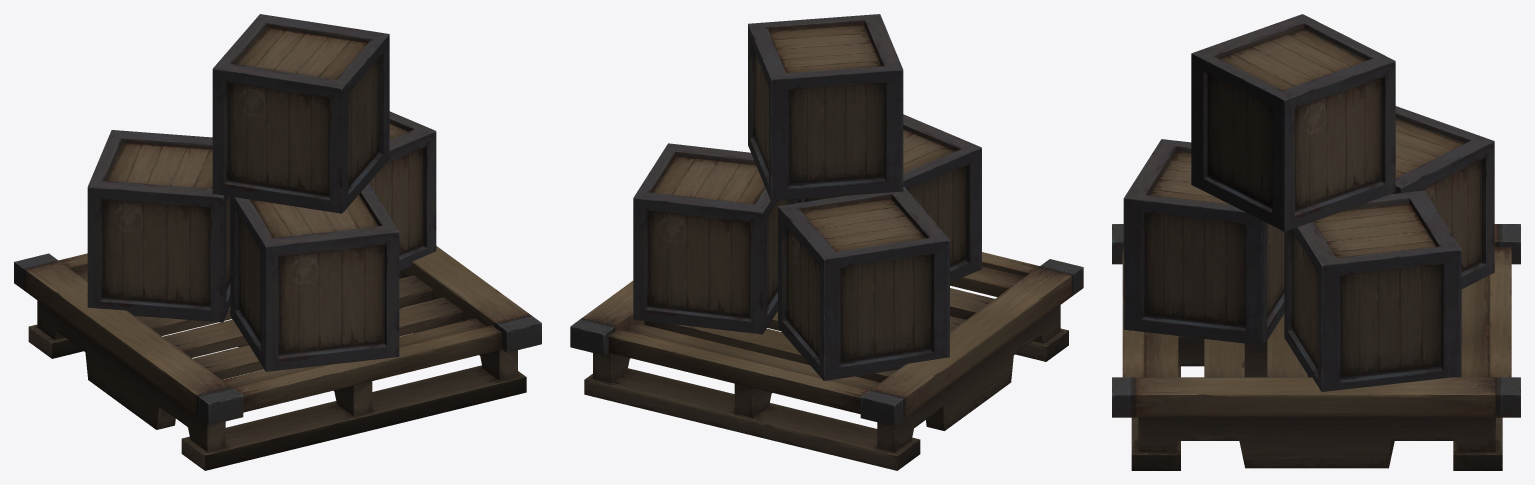
The model's file is AHBoxL2.FBX.
3 renders of one model, left to right at view 1: azimuth 30°, elevation 25°; view 2: azimuth 150°, elevation 25°; view 3: azimuth 270°, elevation 25°, orthographic. The views are drawn at different scales.
Parts seen in each view (by area): view 1: AHBoxL2; view 2: AHBoxL2; view 3: AHBoxL2.
Boxes of the visible parts, box(x1,y1,x2,y2) form: AHBoxL2: box(14, 14, 541, 470); AHBoxL2: box(570, 14, 1083, 470); AHBoxL2: box(1112, 14, 1520, 470).
Size of the model in its own units: 1.96 by 1.81 by 1.98.
Materials: 1 (1 with a texture image).
